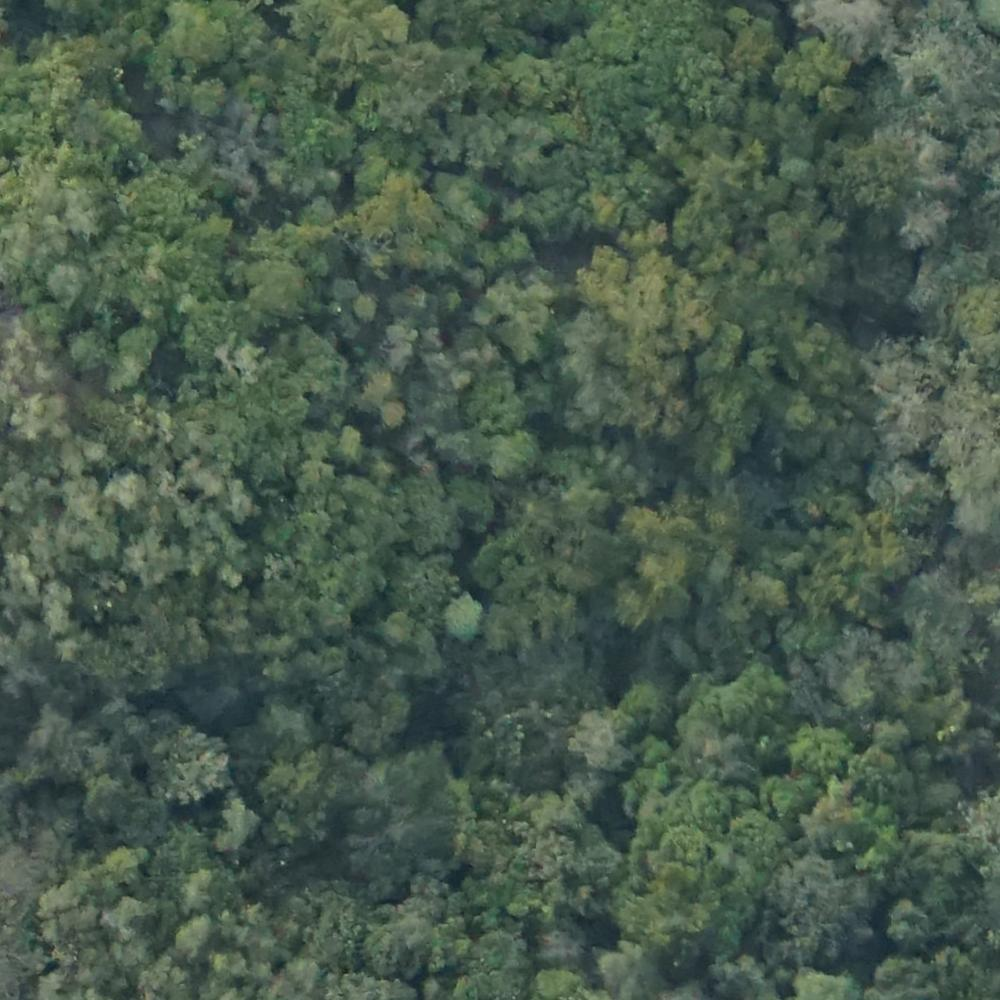tree: (151, 728, 231, 801), (615, 549, 693, 619), (777, 723, 854, 793), (239, 260, 318, 327), (721, 807, 790, 883), (876, 128, 957, 191), (367, 170, 436, 241), (819, 1, 892, 68), (156, 4, 231, 68), (802, 787, 866, 859), (875, 463, 944, 526), (569, 700, 634, 766), (837, 144, 903, 207), (858, 514, 920, 581), (728, 657, 797, 715), (187, 402, 245, 464), (119, 532, 181, 590), (623, 683, 683, 740), (485, 431, 543, 488), (399, 497, 456, 553), (954, 275, 1000, 344), (734, 571, 795, 623), (781, 35, 836, 91), (258, 700, 312, 754), (897, 197, 959, 244), (10, 394, 76, 438), (873, 894, 928, 943), (306, 593, 360, 642), (81, 781, 137, 826), (448, 478, 499, 525), (624, 278, 671, 327), (441, 592, 490, 638), (105, 469, 156, 513), (111, 326, 160, 370), (668, 296, 712, 345), (44, 266, 90, 310), (220, 801, 260, 849), (104, 845, 145, 891), (377, 319, 416, 366), (360, 376, 401, 413), (190, 81, 228, 118), (780, 156, 813, 192), (376, 398, 409, 432), (350, 295, 384, 328), (504, 228, 535, 260)
